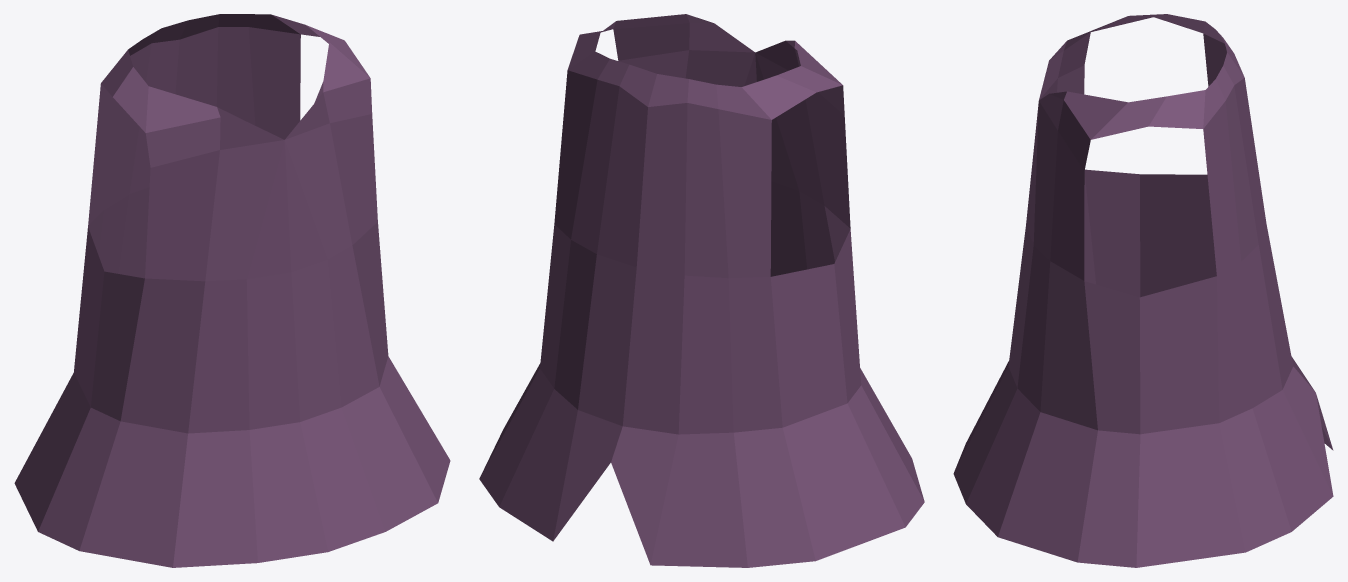
Rendered from CatPinkDress.fbx.
3 views of the same model, side by side, from view 1: azimuth 30°, elevation 25°; view 2: azimuth 150°, elevation 25°; view 3: azimuth 270°, elevation 25° (orthographic). The views are drawn at different scales.
Parts seen in each view (by area): view 1: PinkDress; view 2: PinkDress; view 3: PinkDress.
Boxes of the visible parts, x1,y1,x2,y2 form: PinkDress: (14, 14, 450, 567); PinkDress: (479, 14, 924, 567); PinkDress: (953, 14, 1333, 567).
Size of the model in its own units: 35.1 by 36.65 by 29.91.
